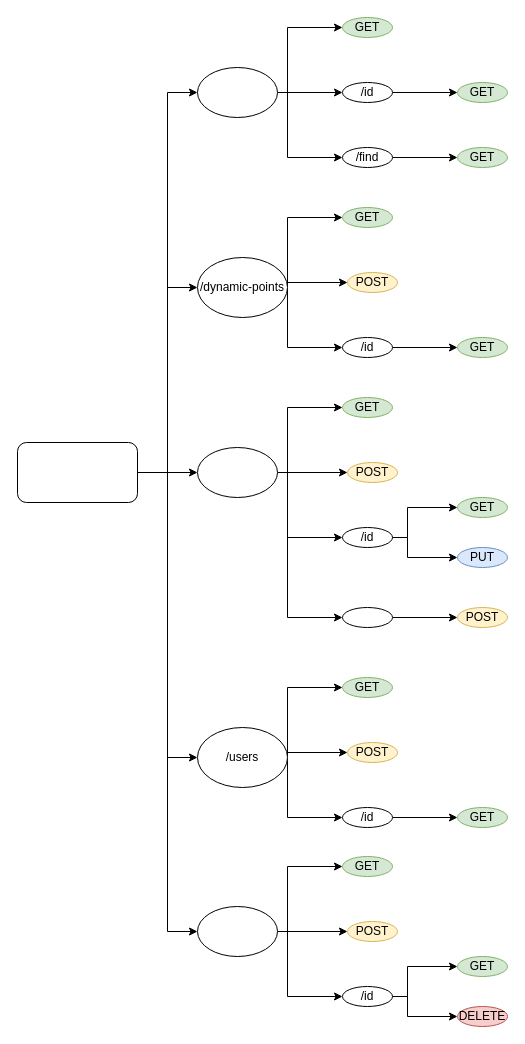
The diagram is 525 pixels wide and 1044 high, and some of its shapes have lost their labels. The shapes that lost their labels are listed below. From the top down, each one's centre as x and y in pixels, then its label:
the point at 237,92: /cities
the point at 77,472: Serwer
the point at 237,472: /points
the point at 367,617: /filtered
the point at 237,931: /waste-types
